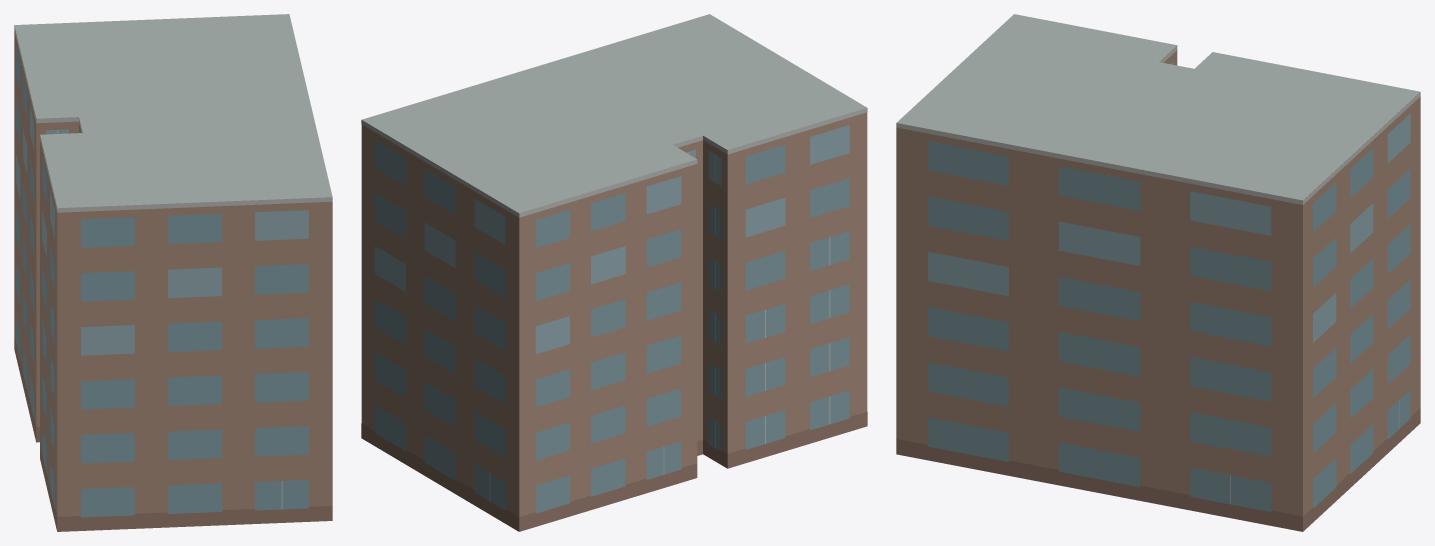
File: survey-upis-32922068.glb
The picture shows the model from 3 angles, left to right: view 1: azimuth 30°, elevation 25°; view 2: azimuth 150°, elevation 25°; view 3: azimuth 270°, elevation 25°; orthographic projection. The views are drawn at different scales.
Parts seen in each view (by area): view 1: survey-upis-32922068.tmp; view 2: survey-upis-32922068.tmp; view 3: survey-upis-32922068.tmp.
Boxes of the visible parts, x1=… form: survey-upis-32922068.tmp: x1=14, y1=14, x2=332, y2=531; survey-upis-32922068.tmp: x1=361, y1=14, x2=867, y2=531; survey-upis-32922068.tmp: x1=896, y1=14, x2=1420, y2=531.
Size of the model in its own units: 21.12 by 17.5 by 25.1.
